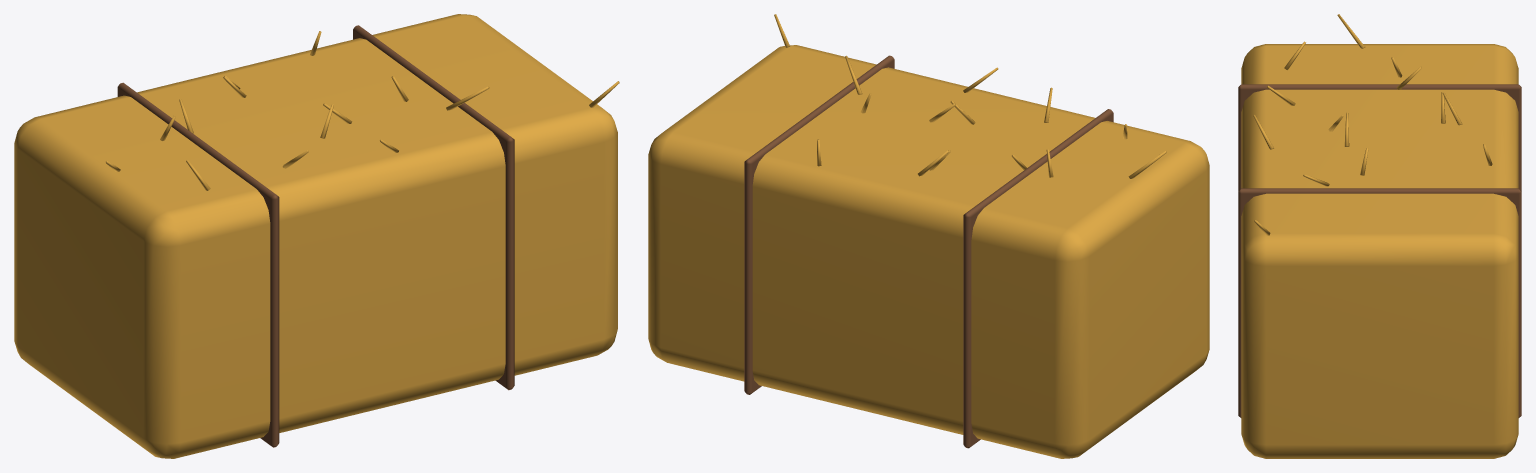
Rendered from hay_bale.glb.
3 views of the same model, side by side, from view 1: azimuth 30°, elevation 25°; view 2: azimuth 150°, elevation 25°; view 3: azimuth 270°, elevation 25° (orthographic). The views are drawn at different scales.
Parts seen in each view (by area): view 1: LH_hay_bale; view 2: LH_hay_bale; view 3: LH_hay_bale.
Boxes of the visible parts, left/top/right/bottom form: LH_hay_bale: left=14, top=14, right=619, bottom=458; LH_hay_bale: left=648, top=14, right=1209, bottom=458; LH_hay_bale: left=1238, top=14, right=1521, bottom=458.
Bounding box in the file's own units: 0.8 × 0.4466 × 0.46.
